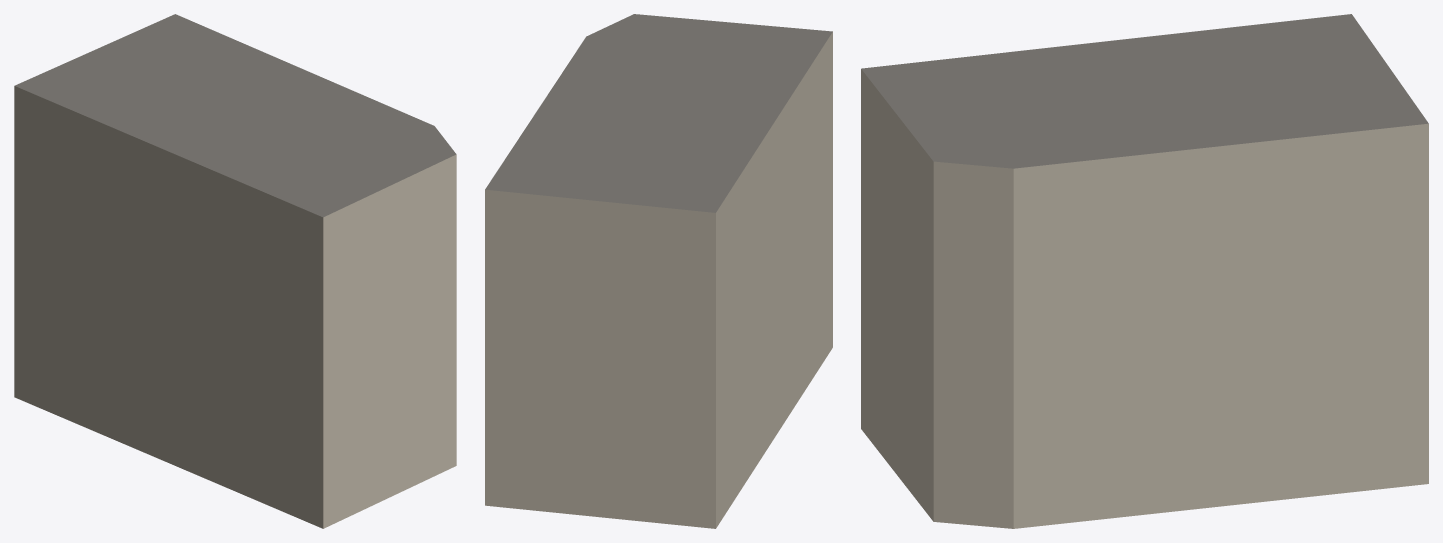
The picture shows the model from 3 angles, left to right: view 1: azimuth 30°, elevation 25°; view 2: azimuth 150°, elevation 25°; view 3: azimuth 270°, elevation 25°; orthographic projection. The views are drawn at different scales.
Parts seen in each view (by area): view 1: HP-w1197061591; view 2: HP-w1197061591; view 3: HP-w1197061591.
Boxes of the visible parts, x1,y1,x2,y2 form: HP-w1197061591: [14, 14, 456, 528]; HP-w1197061591: [485, 14, 832, 528]; HP-w1197061591: [861, 14, 1428, 528].
Size of the model in its own units: 16.57 by 18 by 25.71.
